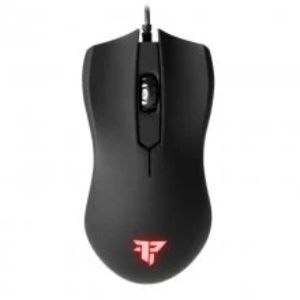mouse: (72, 20, 215, 287)
